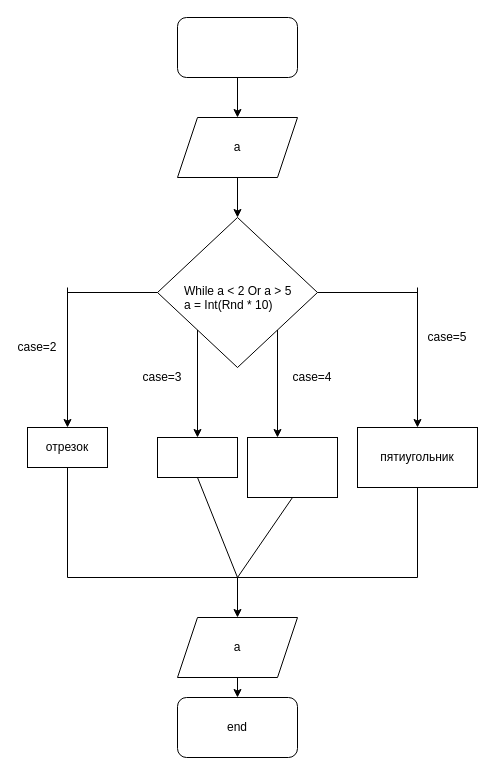
This 495x775 diagram has some shape labels left out. The centre of each missing label's shape, as x and y in pixels:
start: the point at 237,47
прямоугольник ромб квадрат: the point at 292,467
треугольник: the point at 197,457
